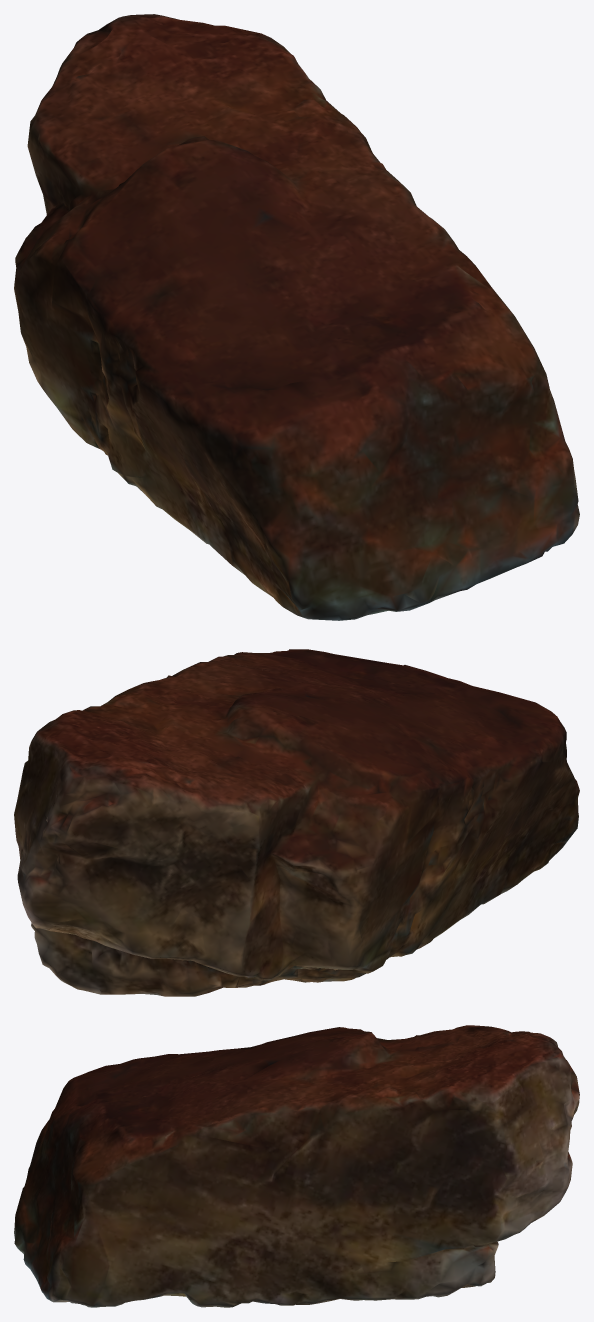
File: rock_07.glb
3 views of the same model, one above another, from view 1: azimuth 30°, elevation 25°; view 2: azimuth 150°, elevation 25°; view 3: azimuth 270°, elevation 25° (orthographic). The views are drawn at different scales.
Parts seen in each view (by area): view 1: rock_07; view 2: rock_07; view 3: rock_07.
Part boxes in pixels (x1,y1,x2,y2): rock_07: (14, 14, 579, 620); rock_07: (14, 649, 579, 996); rock_07: (14, 1025, 579, 1307).
Bounding box in the file's own units: 0.1686 × 0.1437 × 0.3202.
1 material, 1 textured.
